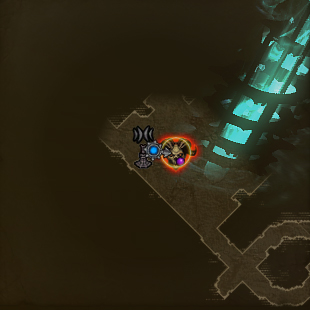Guardian: (152, 134, 201, 171)
